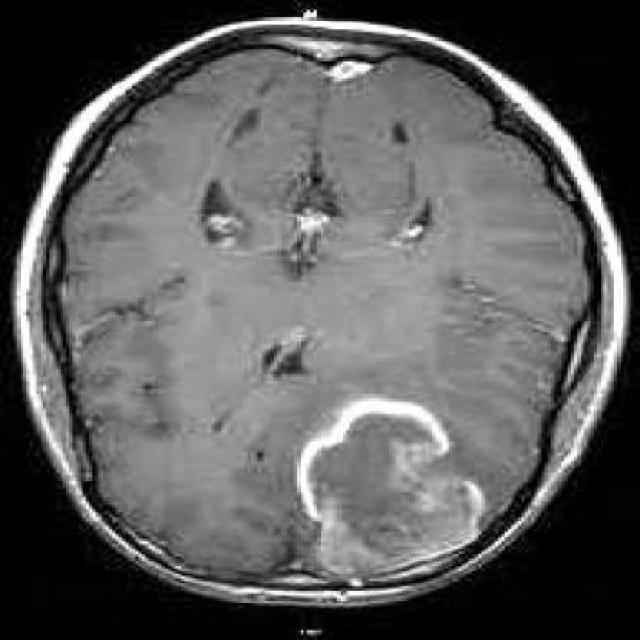Brain-Tumor: (279, 373, 509, 576)
